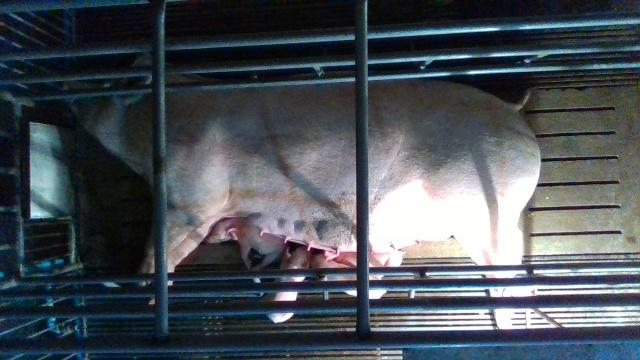piglet: (206, 217, 290, 269), (263, 246, 313, 323), (311, 254, 387, 299), (324, 250, 405, 279)
sow-sleep-lactate: (65, 80, 542, 328)
